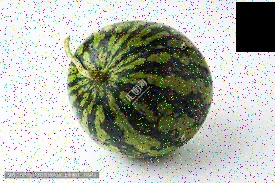watermelon: (61, 21, 212, 160)
